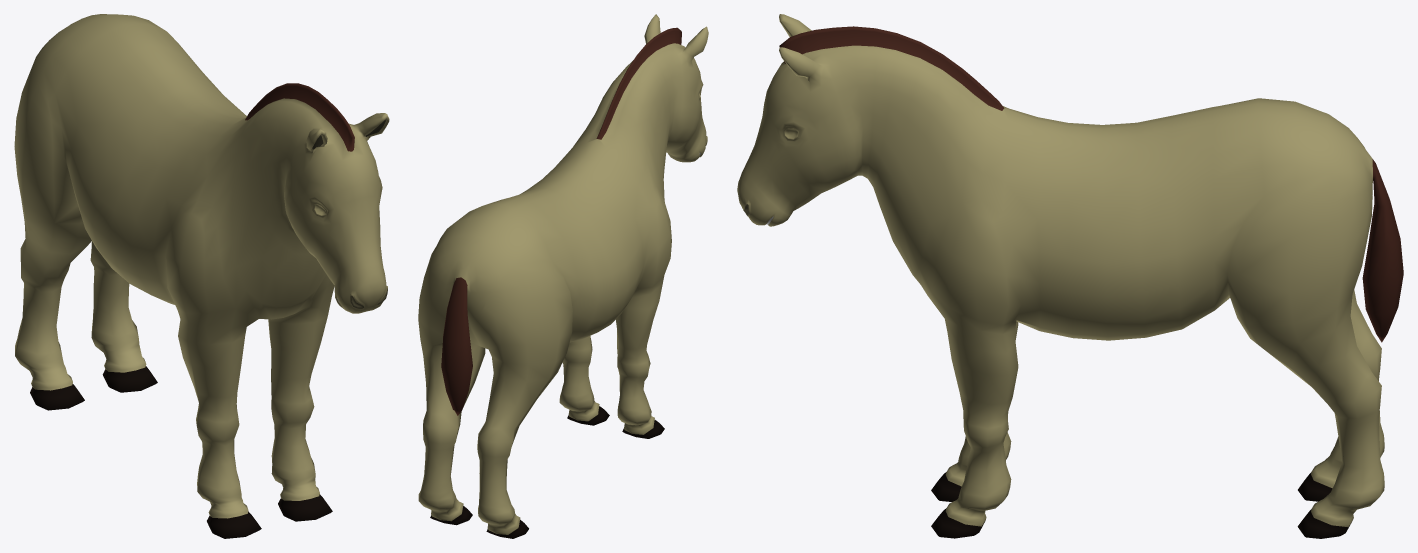
File: pony_pony.obj
3 renders of one model, left to right at view 1: azimuth 30°, elevation 25°; view 2: azimuth 150°, elevation 25°; view 3: azimuth 270°, elevation 25°, orthographic. The views are drawn at different scales.
Visible parts, largest first — view 1: pony; view 2: pony; view 3: pony.
Boxes of the visible parts, left/top/right/bottom form: pony: left=14, top=14, right=389, bottom=538; pony: left=418, top=14, right=708, bottom=538; pony: left=737, top=14, right=1403, bottom=538.
Bounding box in the file's own units: 0.5083 × 1.29 × 1.61.
